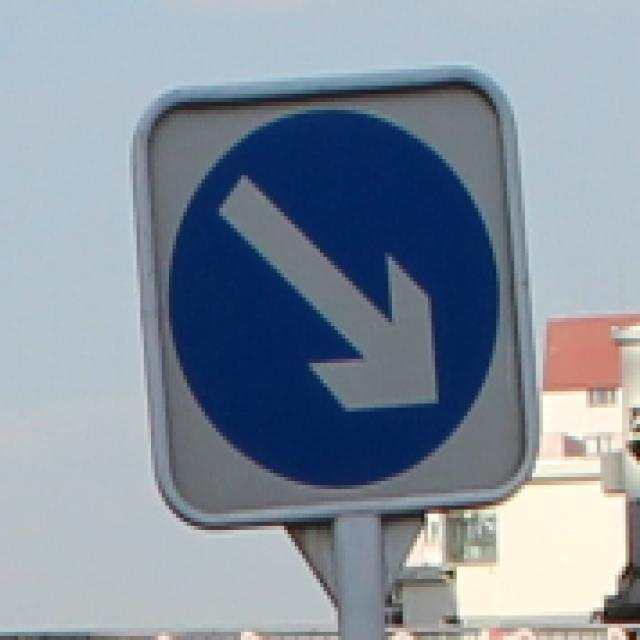Right: (145, 103, 517, 494)
